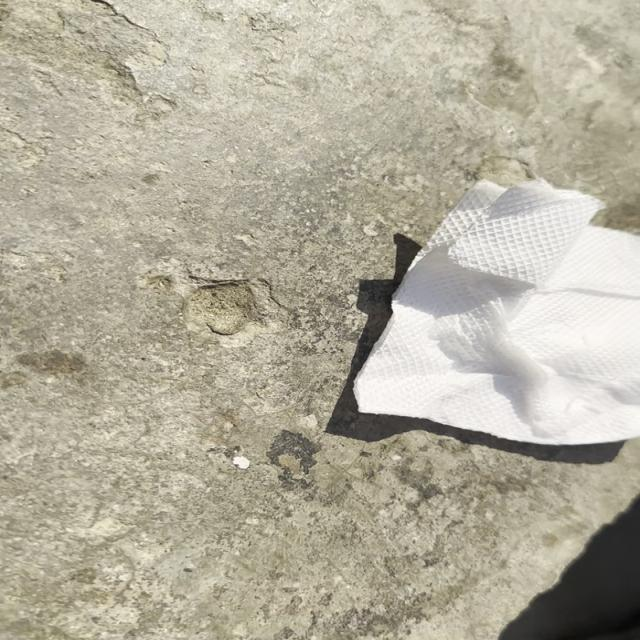tissue: (329, 175, 632, 442)
